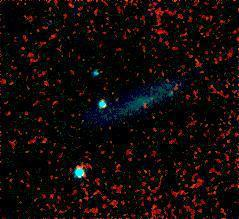star: (123, 80, 153, 110)
